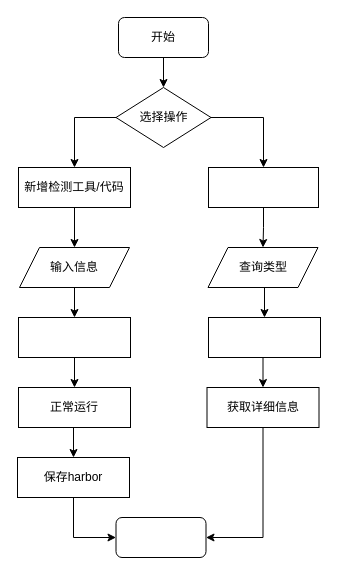
This 338x575 diagram has some shape labels left out. Here are the shapes that lost their labels. From the top down, the centre of each, then its label:
(263,187): 查询检测工具/代码
(74,337): 上传Gitlab检测
(264,337): 返回查询结果
(160,537): 结束
